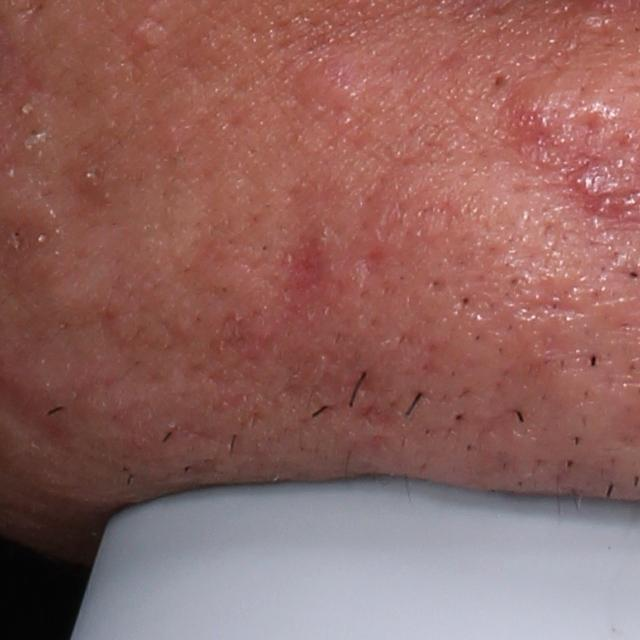atrophic_scar: (506, 276, 575, 315), (282, 239, 328, 292), (352, 241, 389, 283), (572, 109, 609, 150)
papule: (483, 73, 573, 142), (568, 156, 627, 200)
